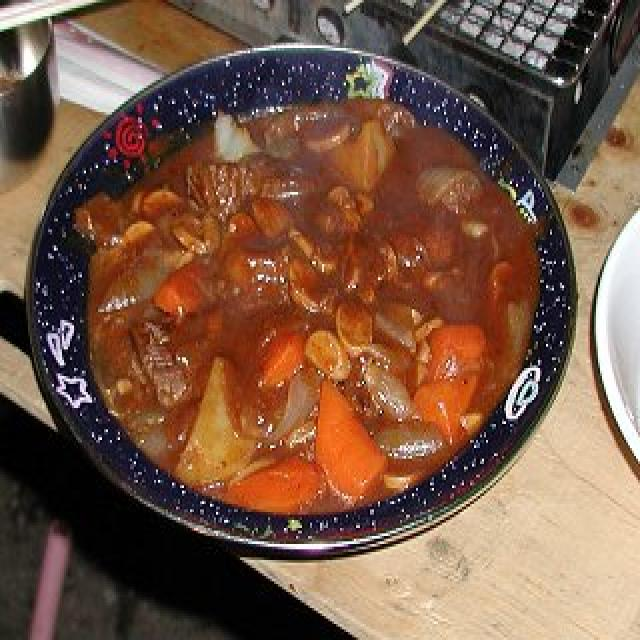汤锅炖物: (28, 42, 572, 554)
